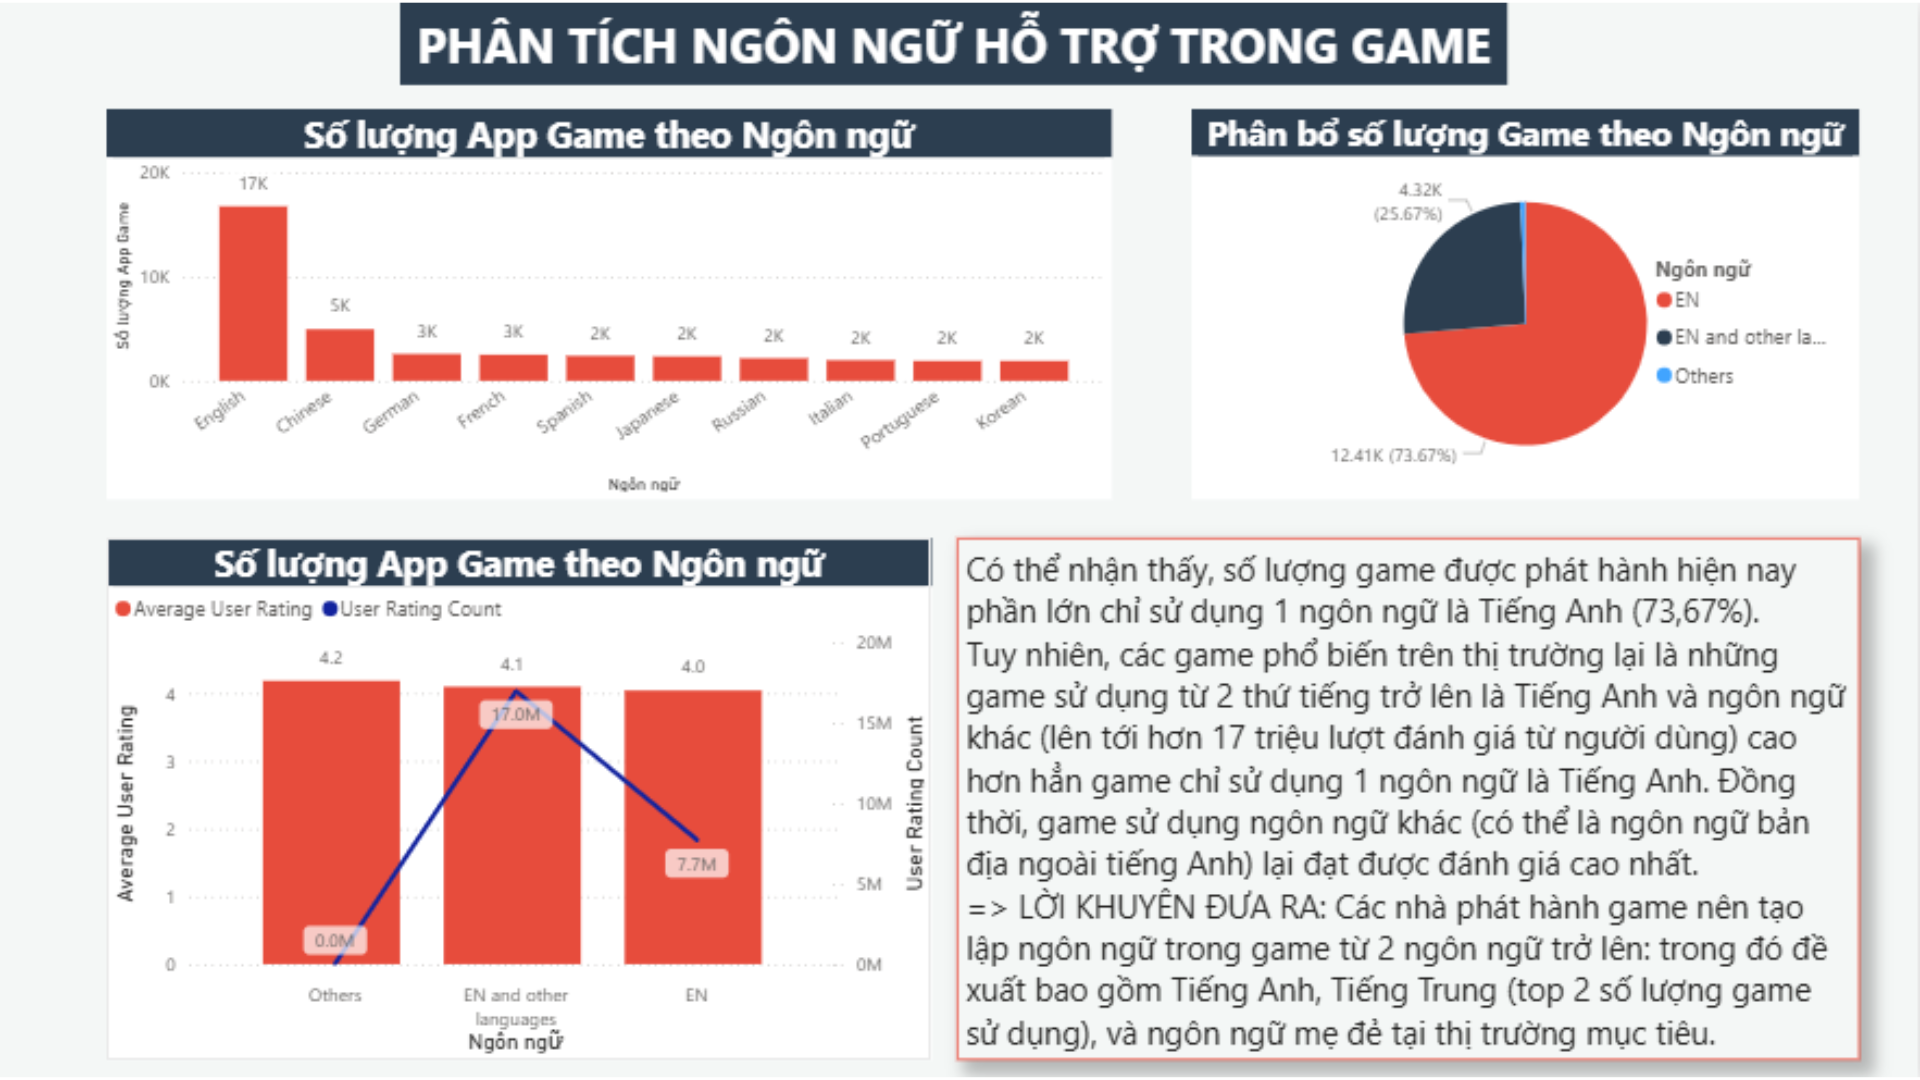

The page's visual inventory and layout, read from the dashboard file:
{"tool":"powerbi","page":{"name":"Ngôn ngữ","canvas":[1280,720],"ordinal":1},"visuals":[{"type":"pieChart","title":"Phân bổ số lượng Game theo Ngôn ngữ","fields":{"Y":["CountNonNull(App Store Games.App ID)"],"Category":["App Store Games.Languages more"]},"box":[796.7,71.7,445,260],"z":0},{"type":"lineStackedColumnComboChart","title":"Số lượng App Game theo Ngôn ngữ","fields":{"Category":["ISO 639-1 codes.name"],"Y":["CountNonNull(Languages.App ID)"]},"box":[73.3,71.7,670,260],"z":1000},{"type":"textbox","box":[640,356.7,601.7,348.3],"z":1001},{"type":"lineStackedColumnComboChart","title":"Số lượng App Game theo Ngôn ngữ","fields":{"Category":["App Store Games.Languages more"],"Y":["Avg(App Store Games.Average User Rating)"],"Y2":["Sum(App Store Games.User Rating Count)"]},"box":[73.3,356.7,550,348.3],"z":1002},{"type":"textbox","box":[270,0,738.3,55],"z":1003}]}

Visuals, with their boxes in screenshot pixels (x1, y1, x2, y2), scaled from the page's 1280x720 canvas onto the 1920x1080 screenshot:
"Phân bổ số lượng Game theo Ngôn ngữ" pieChart: [left=1195, top=108, right=1863, bottom=498]
"Số lượng App Game theo Ngôn ngữ" lineStackedColumnComboChart: [left=110, top=108, right=1115, bottom=498]
textbox: [left=960, top=535, right=1863, bottom=1058]
"Số lượng App Game theo Ngôn ngữ" lineStackedColumnComboChart: [left=110, top=535, right=935, bottom=1058]
textbox: [left=405, top=0, right=1512, bottom=82]
